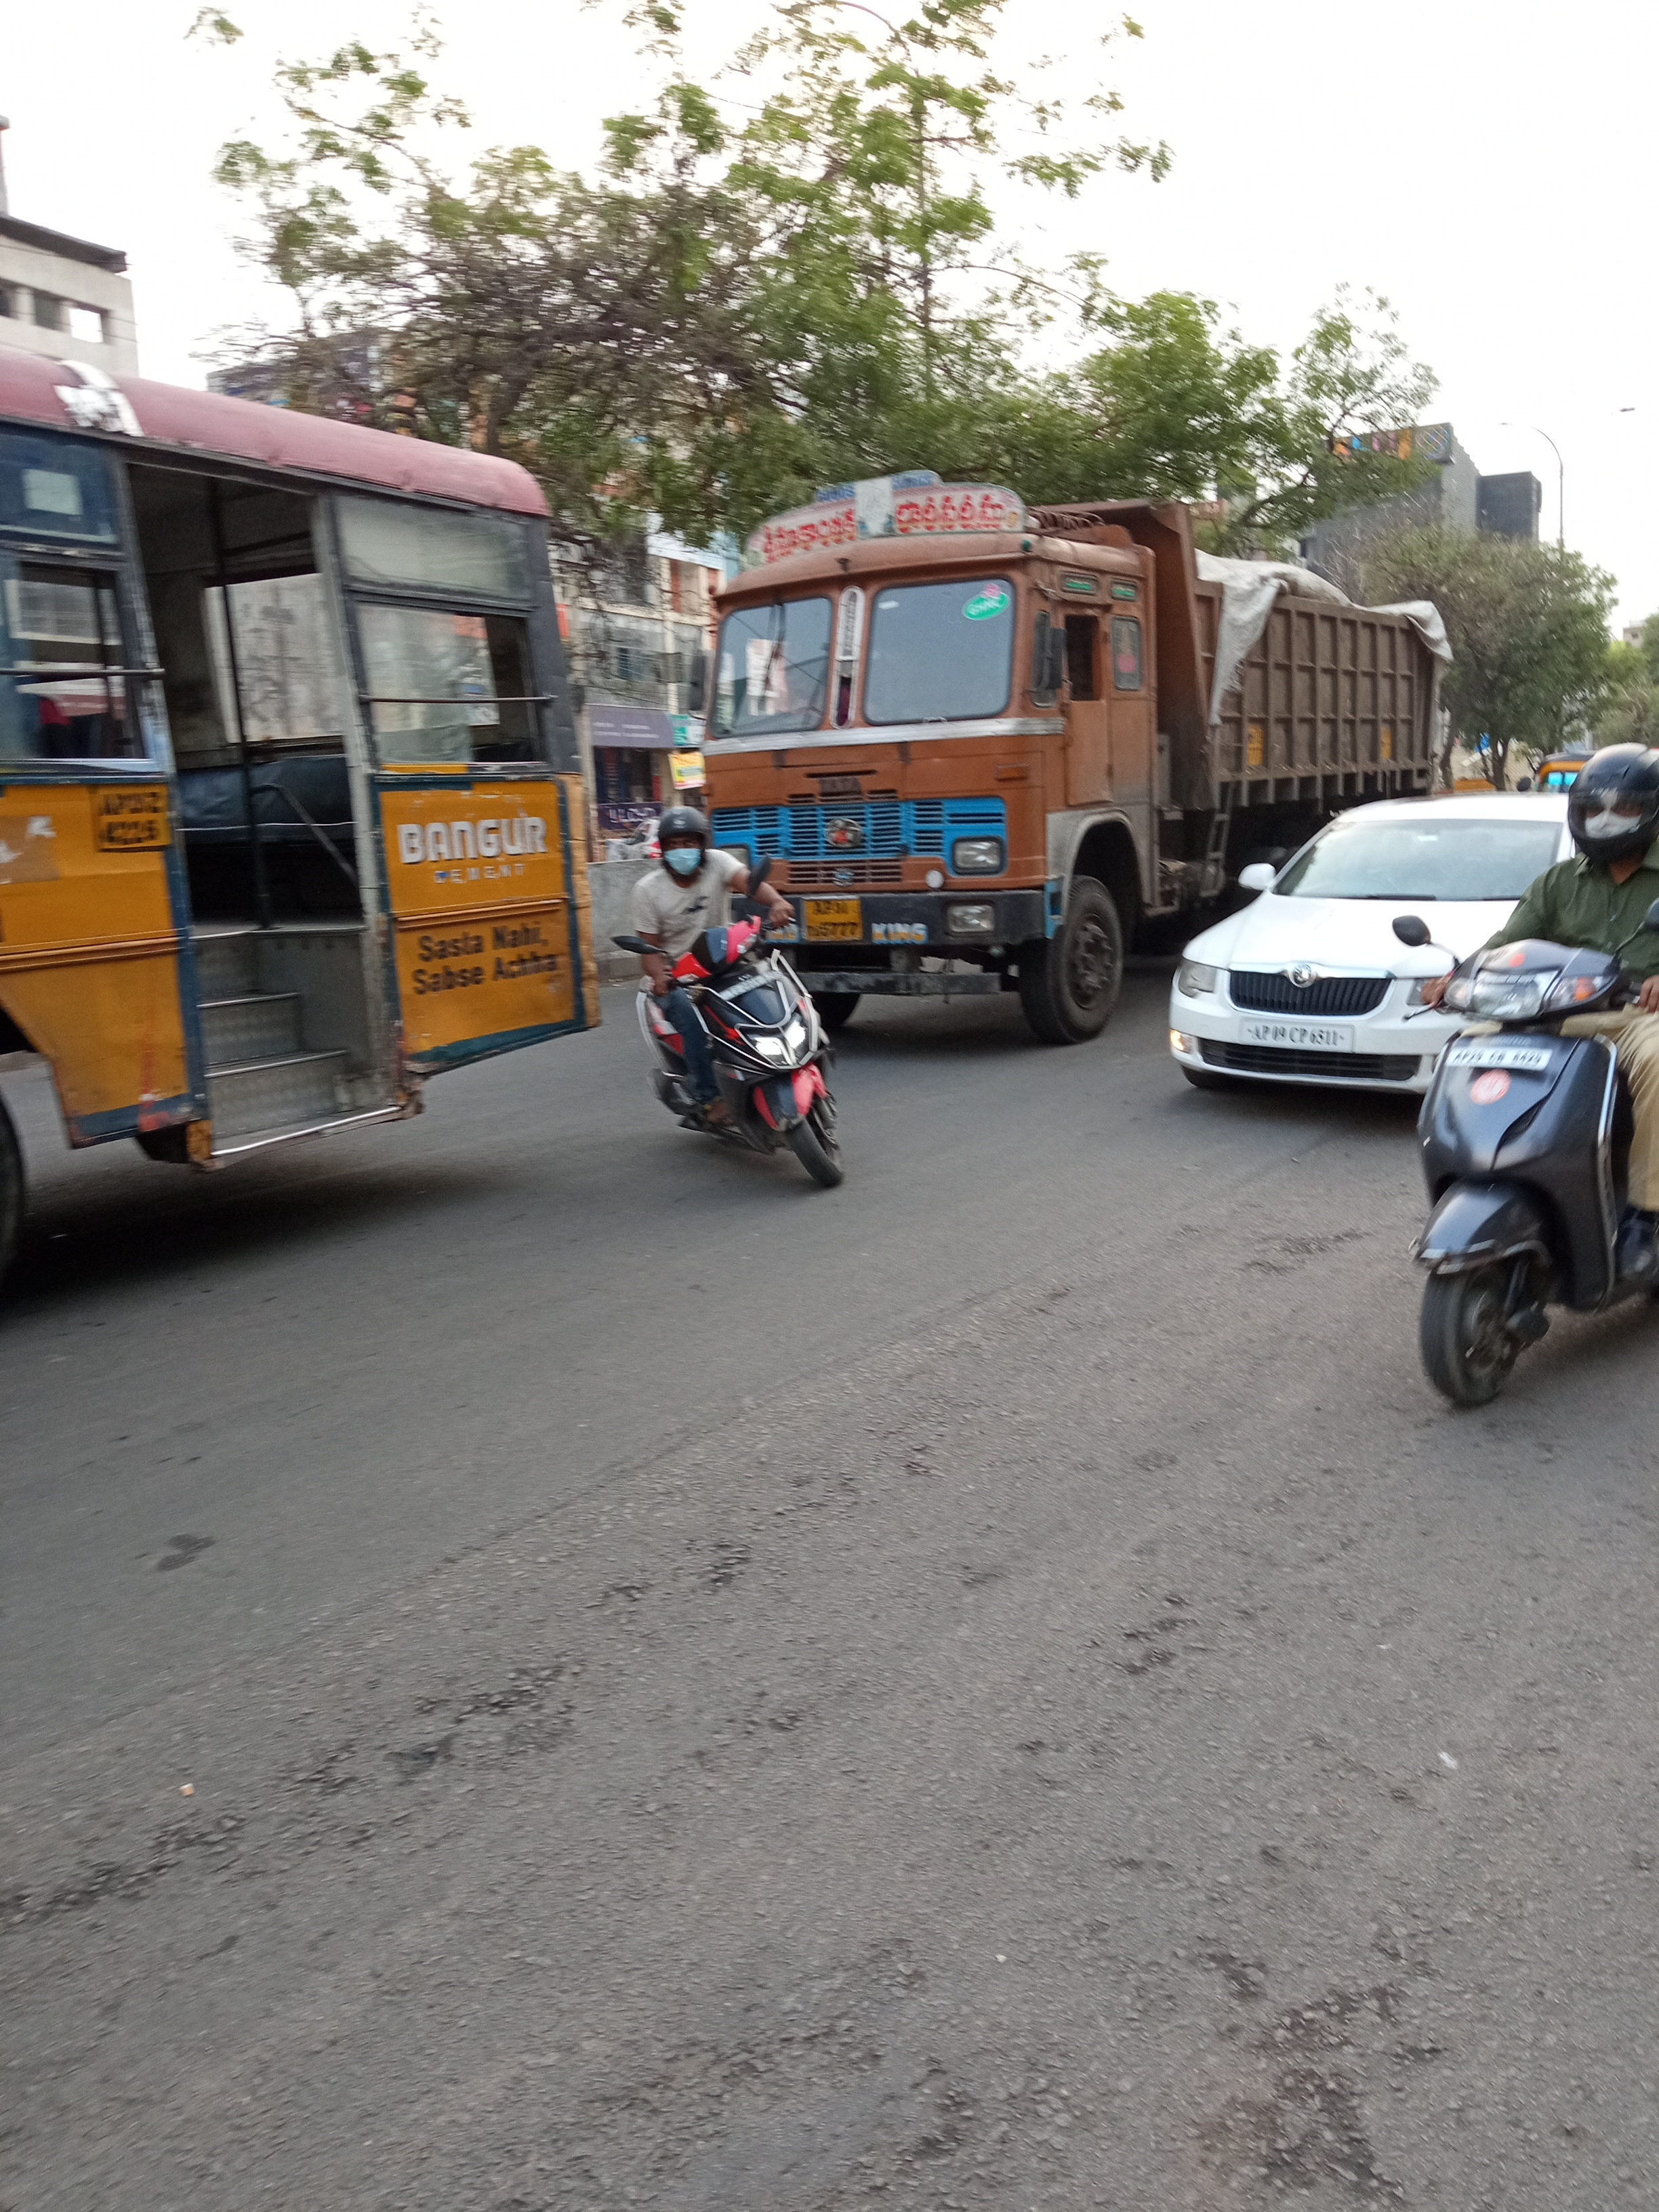truck: (681, 465, 1455, 1049)
